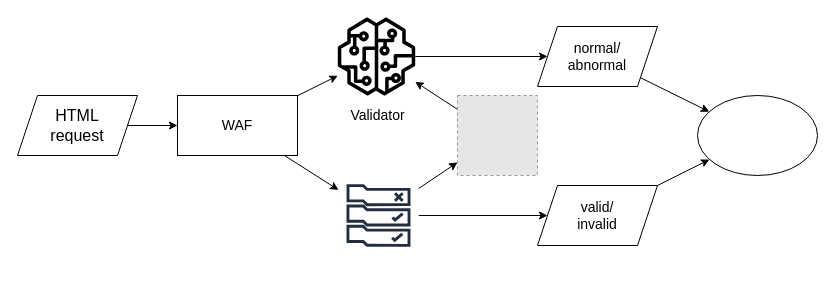
Image size: 835x293. Some labels were removed from this diagram. Grey dashed boxes stand in for pictures. The centre of each missing label's shape, as x and y in pixels:
"Rule" belongs at point 378,215.
"valid/invalid" belongs at point 757,135.
